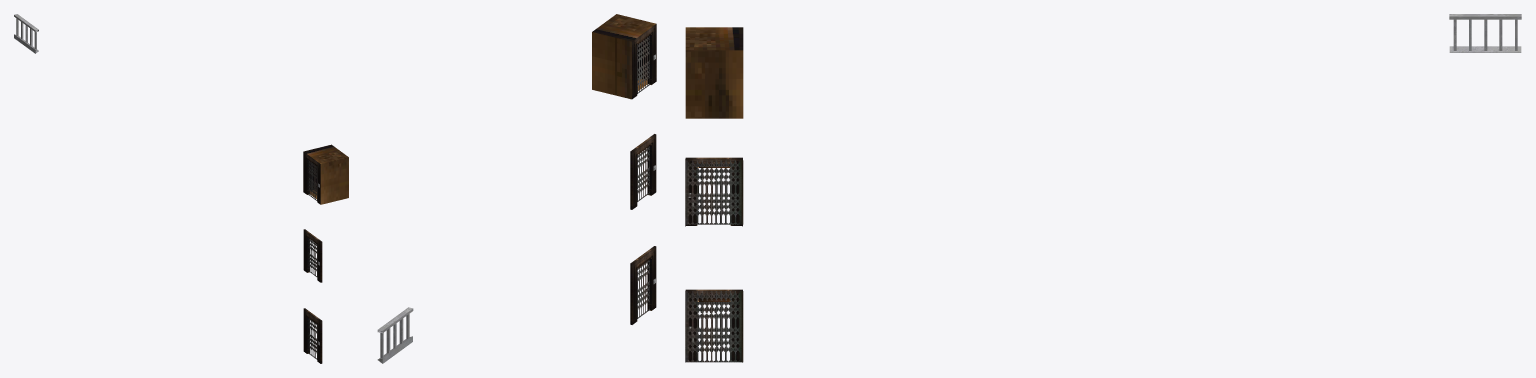
Rendered from ELEVADOR COMPUERTAS.fbx.
3 views of the same model, side by side, from view 1: azimuth 30°, elevation 25°; view 2: azimuth 150°, elevation 25°; view 3: azimuth 270°, elevation 25° (orthographic). The views are drawn at different scales.
Parts seen in each view (by area): view 1: ELEVADOR, REJA.001, emer.003, REJA; view 2: ELEVADOR, REJA.001, emer.003, REJA; view 3: REJA.001, ELEVADOR, emer.003.
Part boxes in pixels (x1,y1,x2,y2): ELEVADOR: [303, 144, 348, 204]; REJA.001: [303, 229, 322, 363]; emer.003: [14, 14, 38, 53]; REJA: [308, 160, 317, 200]; ELEVADOR: [592, 14, 656, 99]; REJA.001: [630, 134, 656, 324]; emer.003: [377, 307, 413, 363]; REJA: [637, 36, 649, 93]; REJA.001: [685, 157, 743, 362]; ELEVADOR: [685, 27, 743, 118]; emer.003: [1449, 14, 1521, 52].
Size of the model in its own units: 537 by 1207 by 2735.
Materials: 3 (3 with a texture image).
